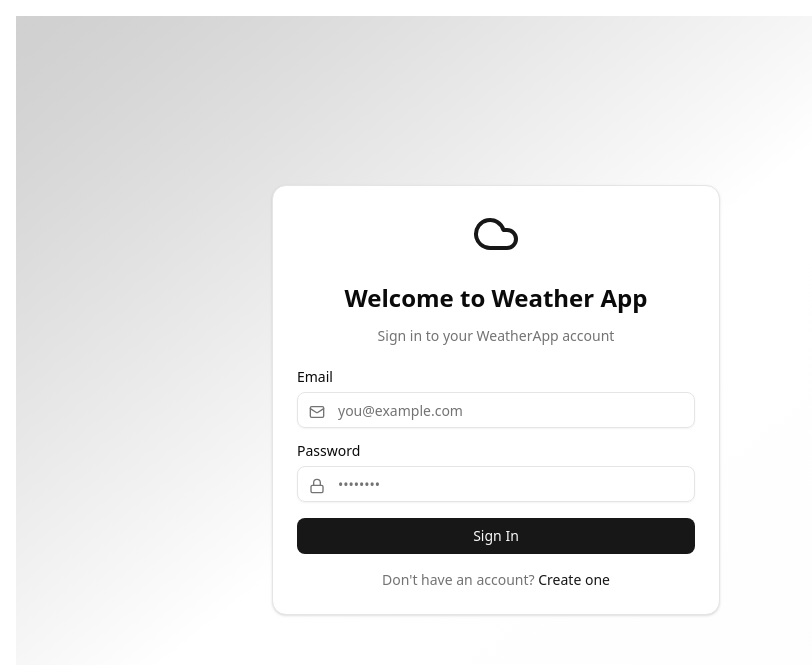
Test: Login Component › L-V1: shows error message when fields are empty on submit
Click the button "Sign In" at (496, 536), box [297, 518, 695, 554]
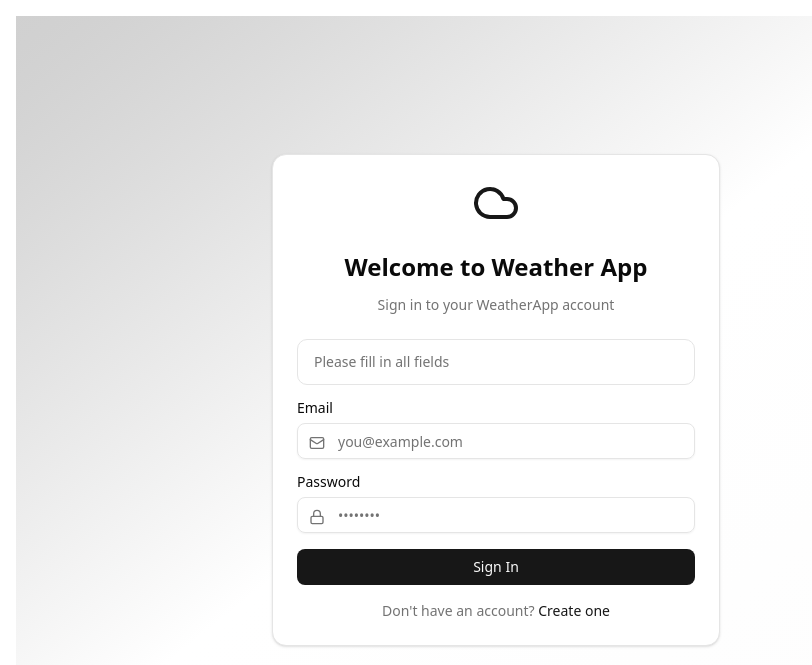
Expected: the text "Please fill in all fields" is shown, [314, 352, 449, 371]
# Clear error when user types
Type "a" into the field labelled "Email" at (496, 441), box [297, 423, 695, 459]
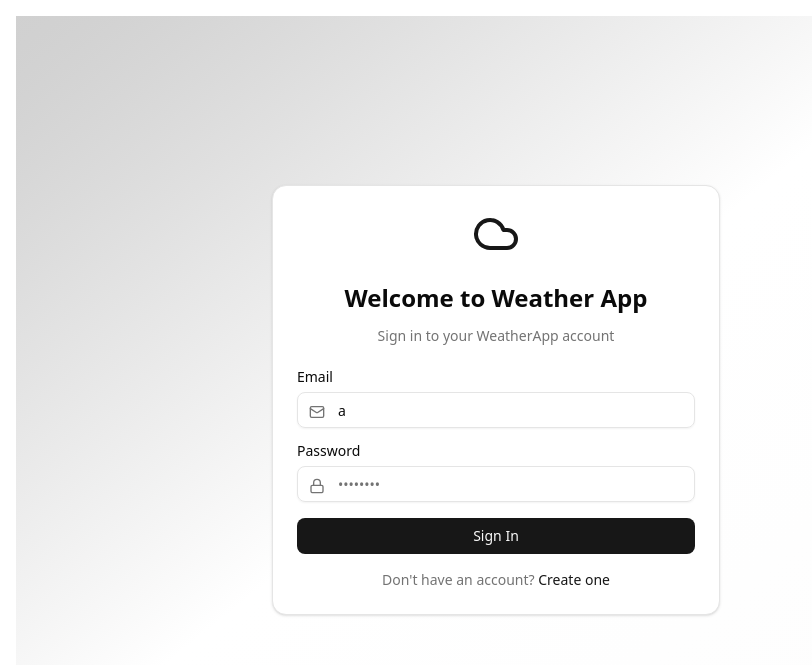
Expected: the text "Please fill in all fields" is gone
